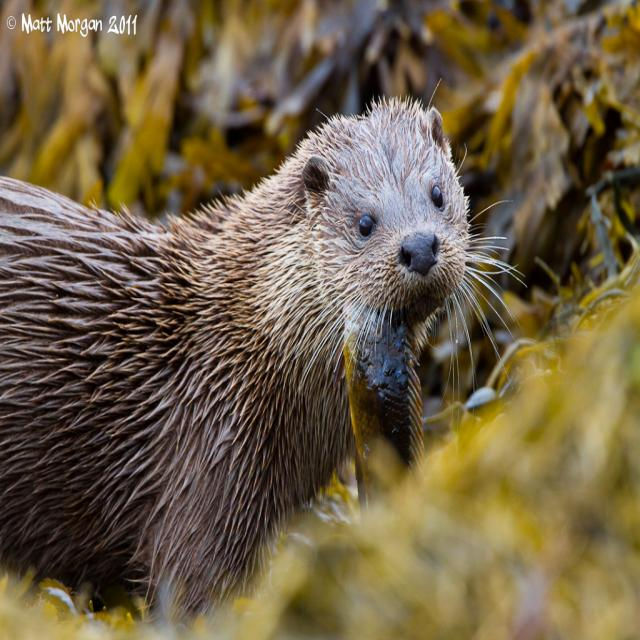otter: (1, 99, 467, 587)
